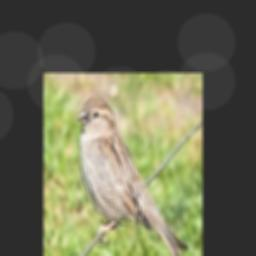Sparrow: (76, 97, 188, 256)
